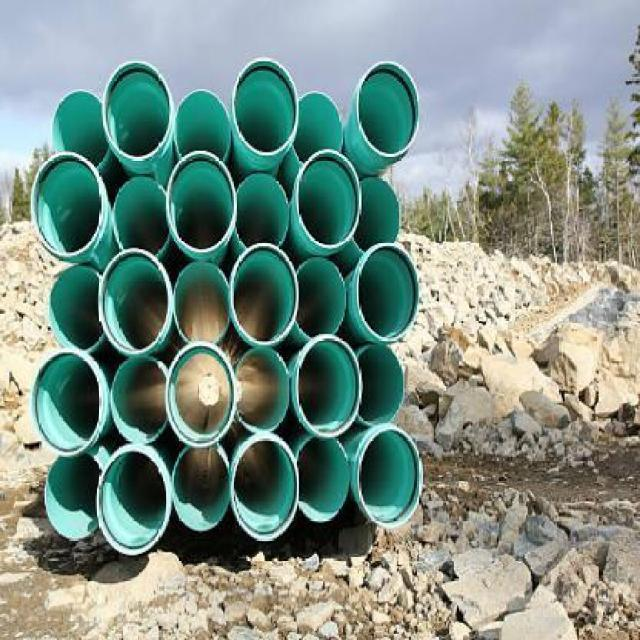pipe: (31, 153, 105, 259), (163, 343, 237, 448), (95, 450, 168, 556), (166, 153, 237, 259), (32, 353, 103, 459), (226, 243, 299, 346), (102, 59, 173, 164), (231, 434, 299, 542), (355, 426, 423, 528), (296, 337, 362, 439), (231, 58, 299, 157), (296, 151, 362, 250), (355, 62, 420, 161), (356, 245, 419, 343), (109, 356, 168, 445), (45, 454, 103, 542), (171, 446, 230, 532), (174, 262, 231, 350), (50, 266, 108, 352), (234, 348, 290, 434), (113, 177, 171, 259), (296, 435, 350, 523), (53, 91, 111, 170), (234, 173, 290, 250), (174, 89, 231, 163), (296, 257, 345, 339), (355, 345, 403, 427), (291, 92, 344, 165), (353, 179, 402, 253)
